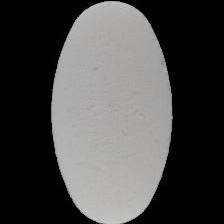11534-168: (0, 0, 224, 224)
